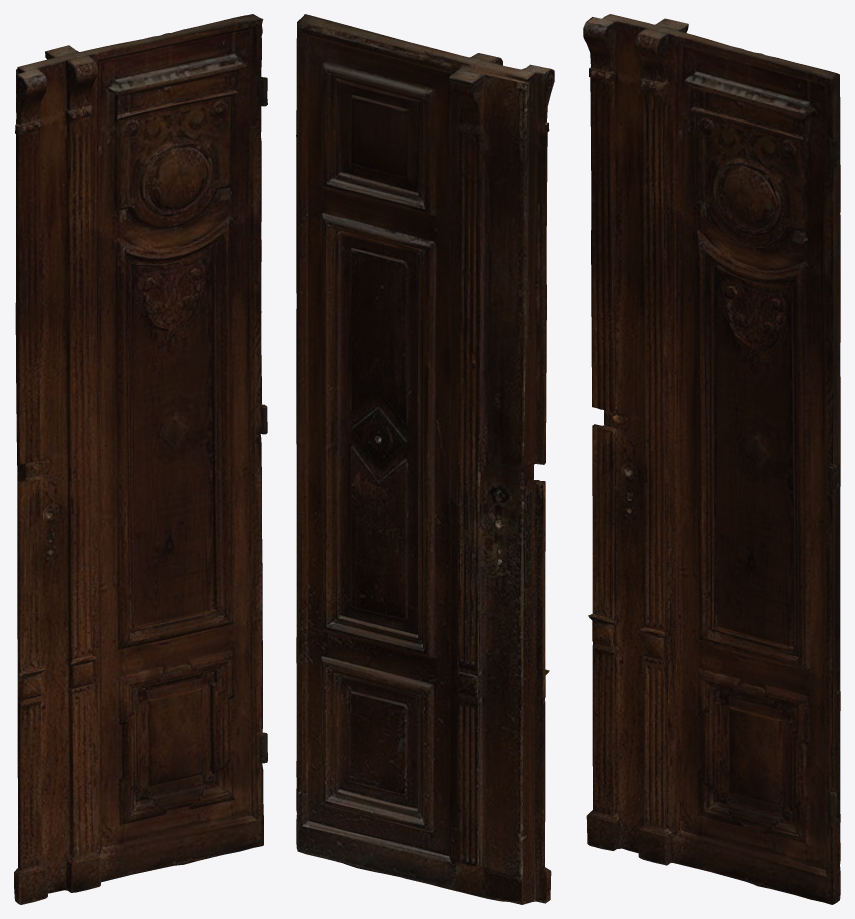
The model's file is door-set-tall.glb.
3 views of the same model, side by side, from view 1: azimuth 30°, elevation 25°; view 2: azimuth 150°, elevation 25°; view 3: azimuth 330°, elevation 25° (orthographic).
Parts seen in each view (by area): view 1: door-set-tall; view 2: door-set-tall; view 3: door-set-tall.
Part boxes in pixels (x1,y1,x2,y2): door-set-tall: [14, 14, 267, 904]; door-set-tall: [296, 14, 554, 904]; door-set-tall: [583, 14, 840, 904].
Bounding box in the file's own units: 1.2 × 3.82 × 0.2685.
1 material, 1 textured.
